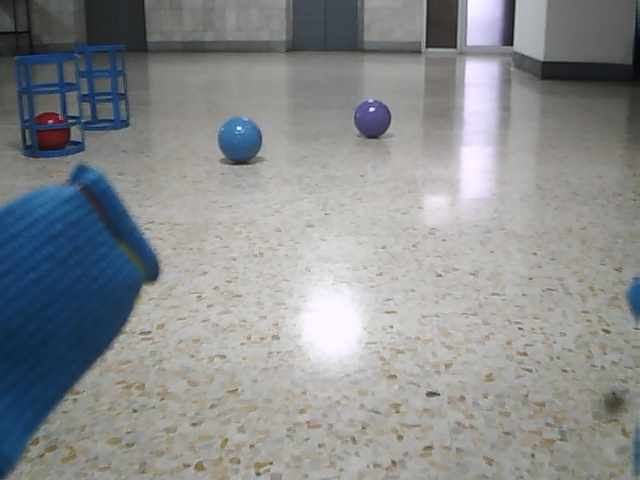Blue ball: (216, 115, 263, 163)
Cyro: (12, 49, 87, 158), (76, 44, 134, 134)
Purple ball: (352, 98, 393, 141)
Red ball: (35, 111, 72, 152)
